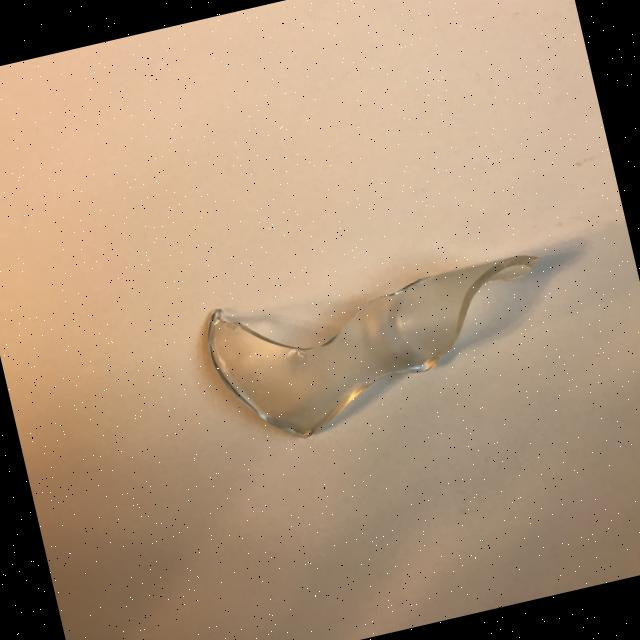glass: (198, 233, 566, 455)
